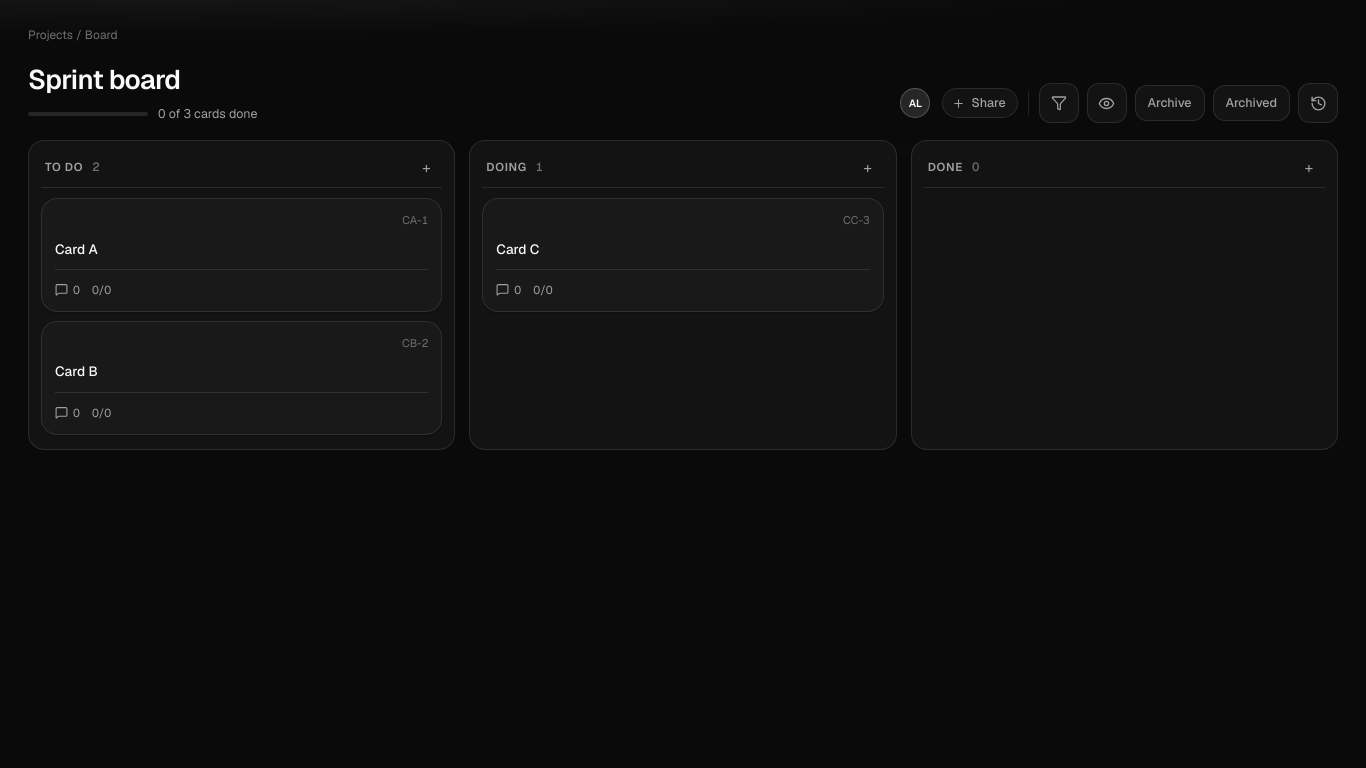
Test: ProjectBoard › appends a created card at the end of the chosen column
Step 1. Click the button named "Add card to To do" → (426, 167), box [414,155,438,179]
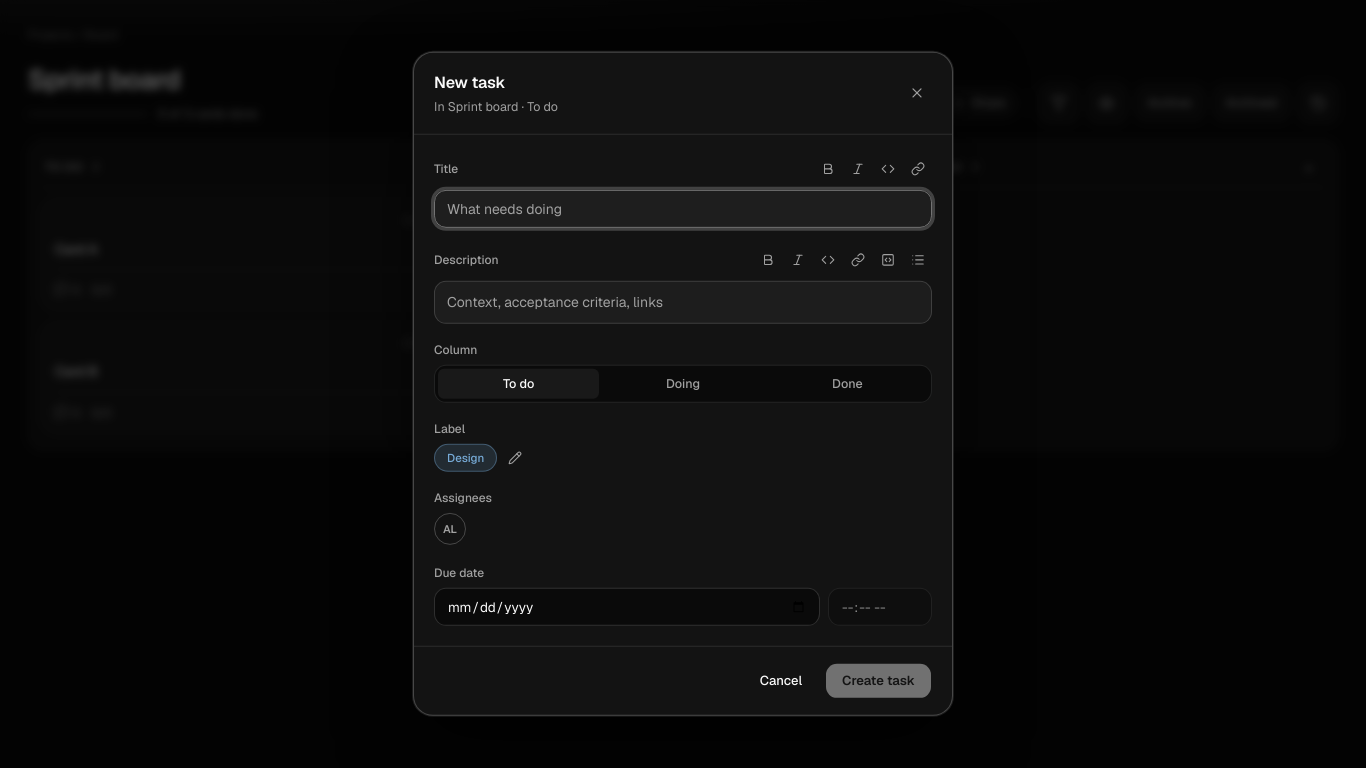
Step 2. Type "New work" into the field labelled "Title" → (683, 209), box [434,190,932,228]
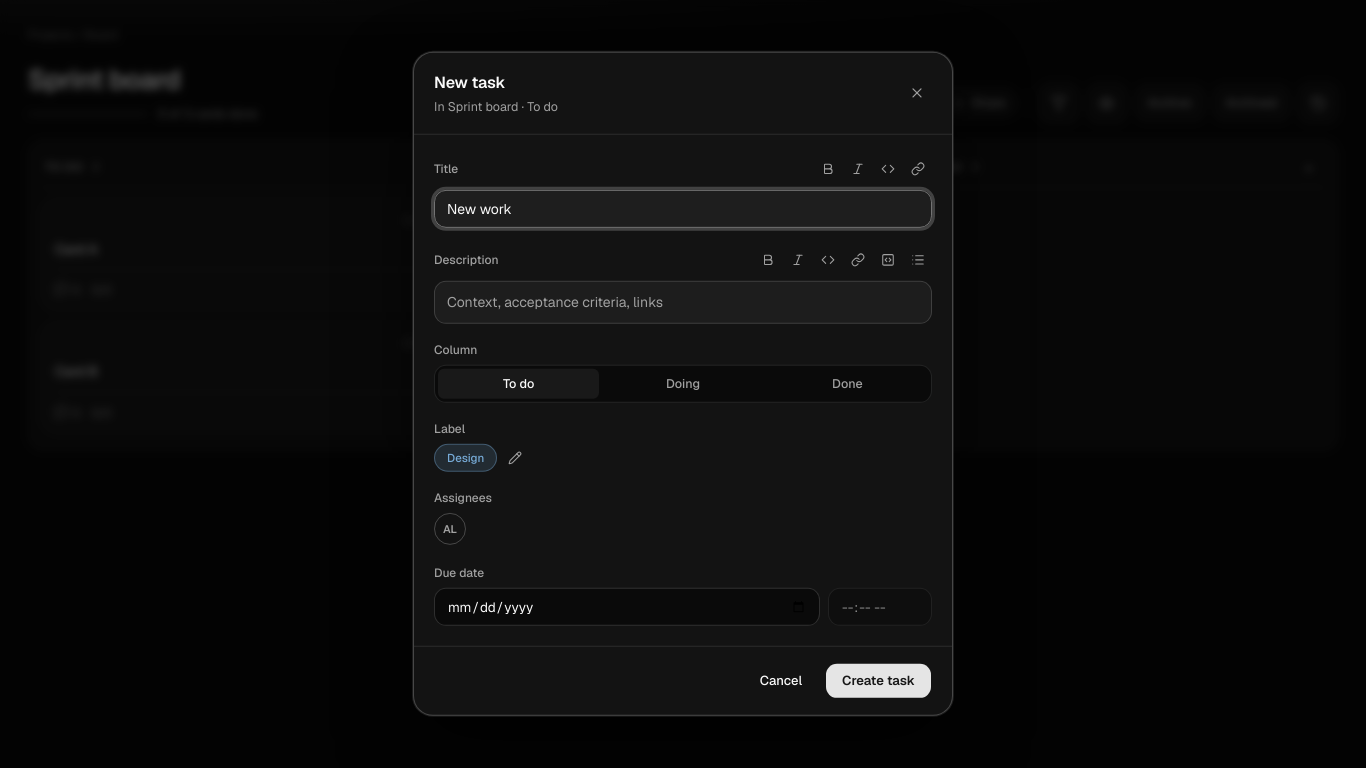
Step 3. Click the button "Doing" → (683, 384), box [602,369,764,399]
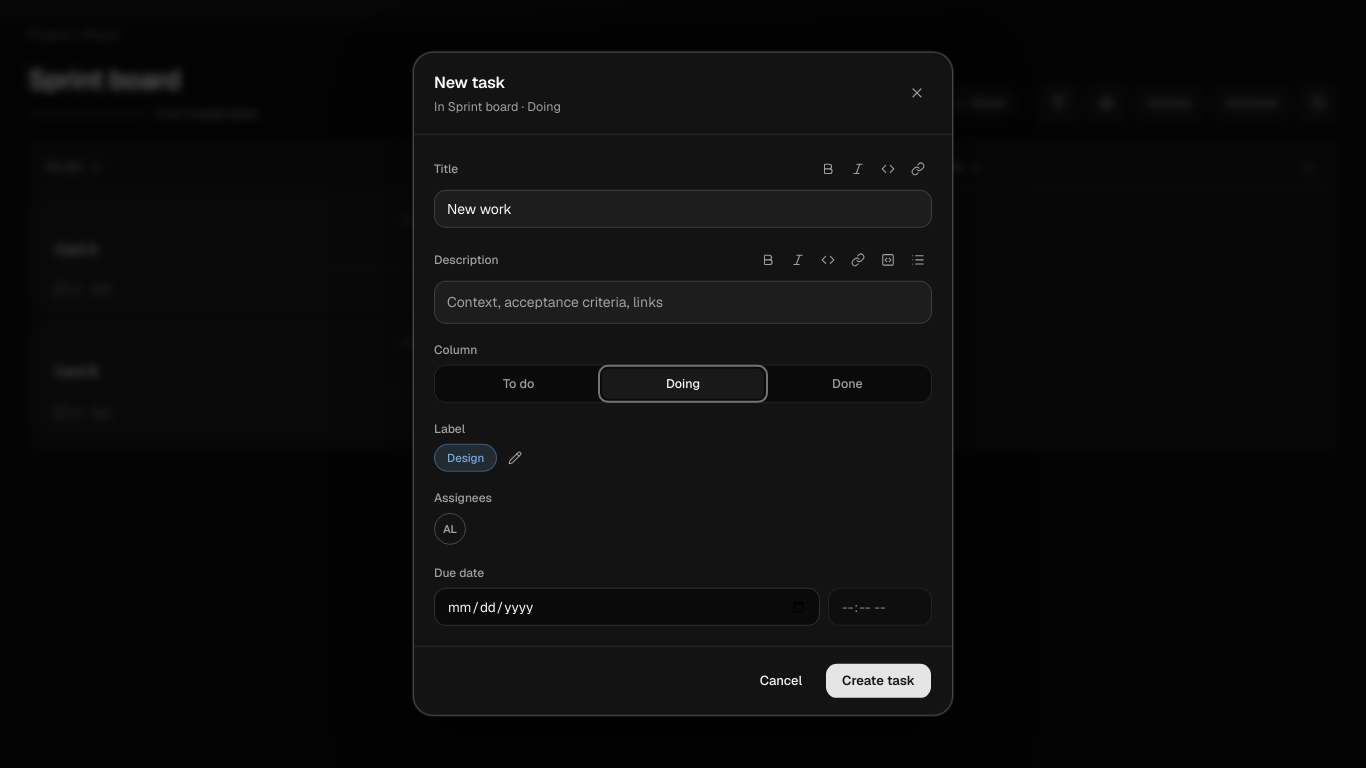
Step 4. Click the button "Create task" → (879, 681), box [825,663,932,699]
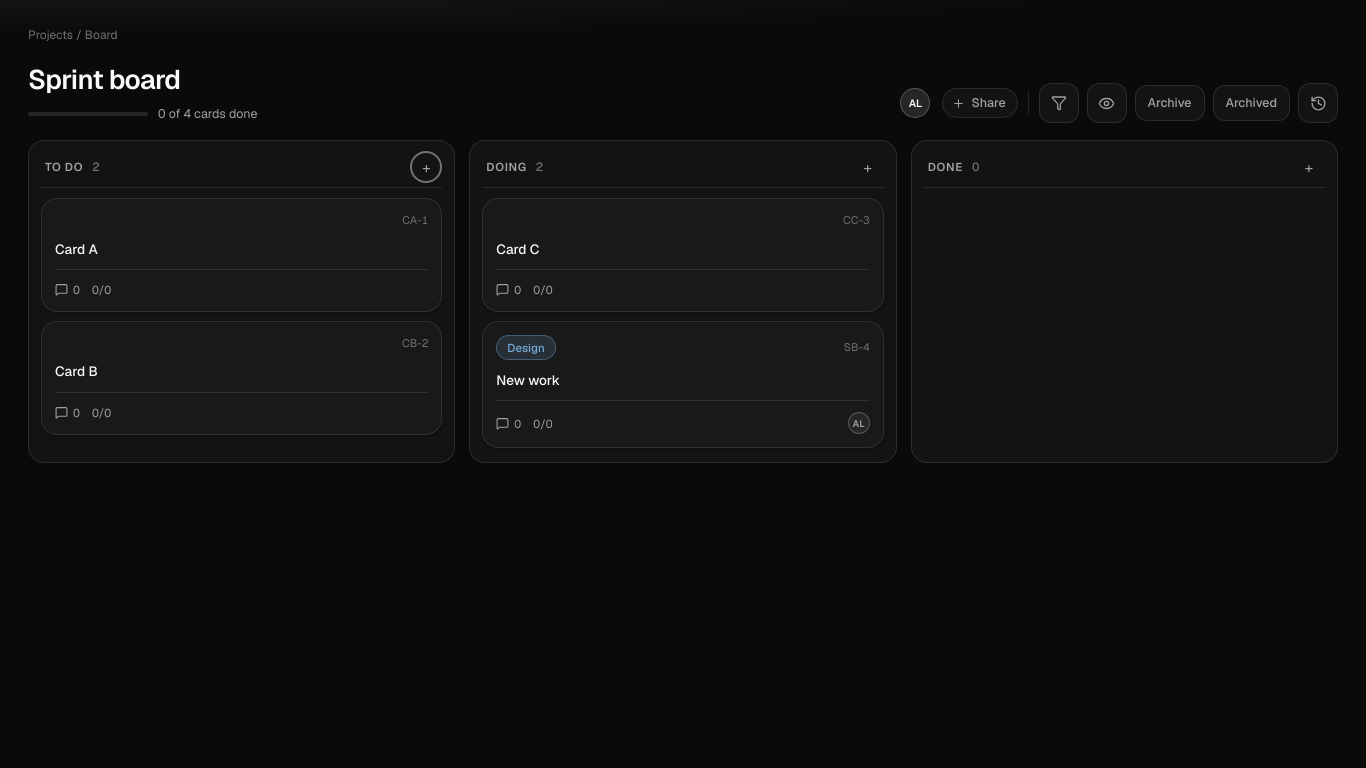
Expected: the text "SB-4" is shown, [844,339,870,356]
